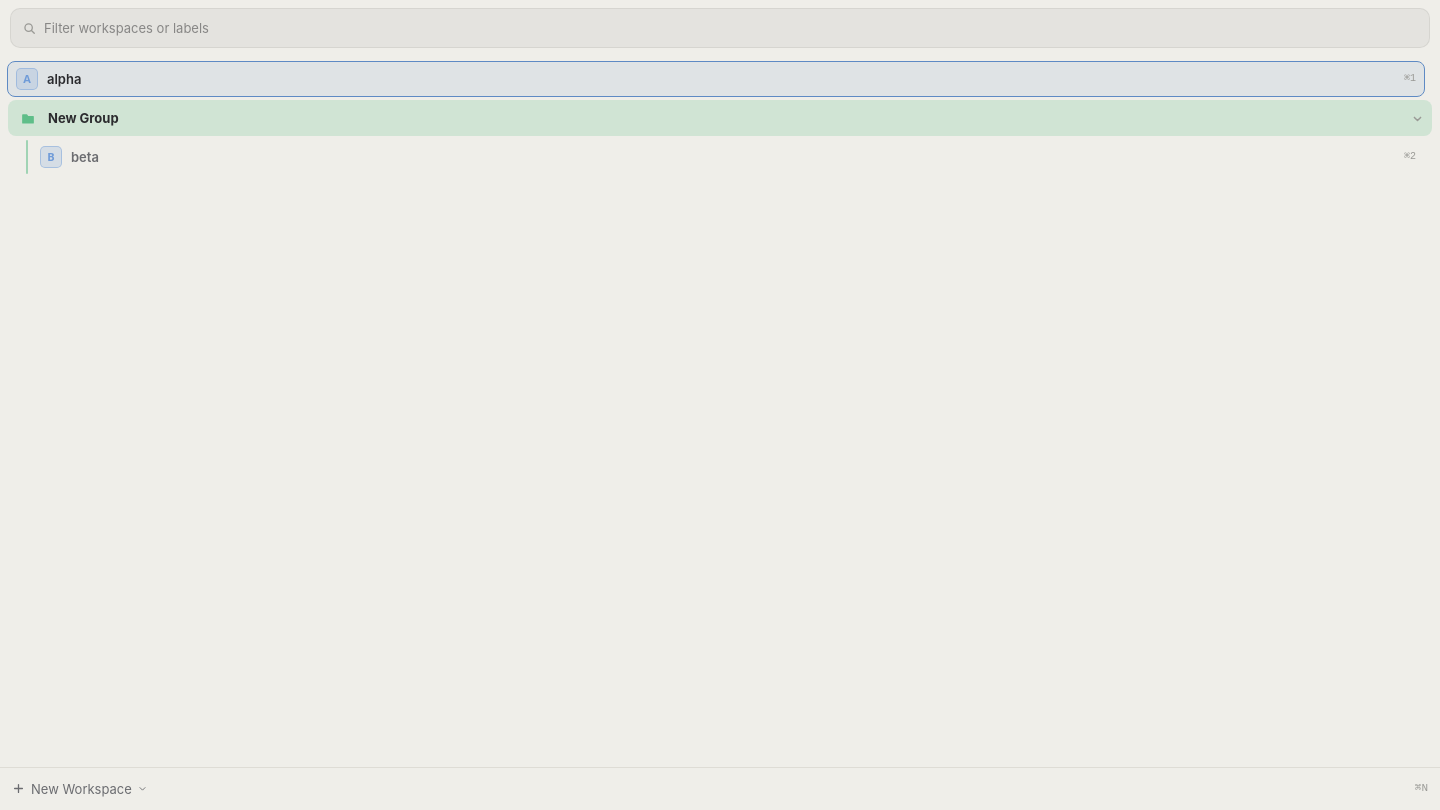
Test: the New Group sheet (§WS-082/§WS-083) › pre-fills a unique default name
What coordinates should you click on to do the following:
click the button with test id "sidebar-new-menu-toggle"
I would click on:
 (142, 789)
Its box is [132,778,153,799].
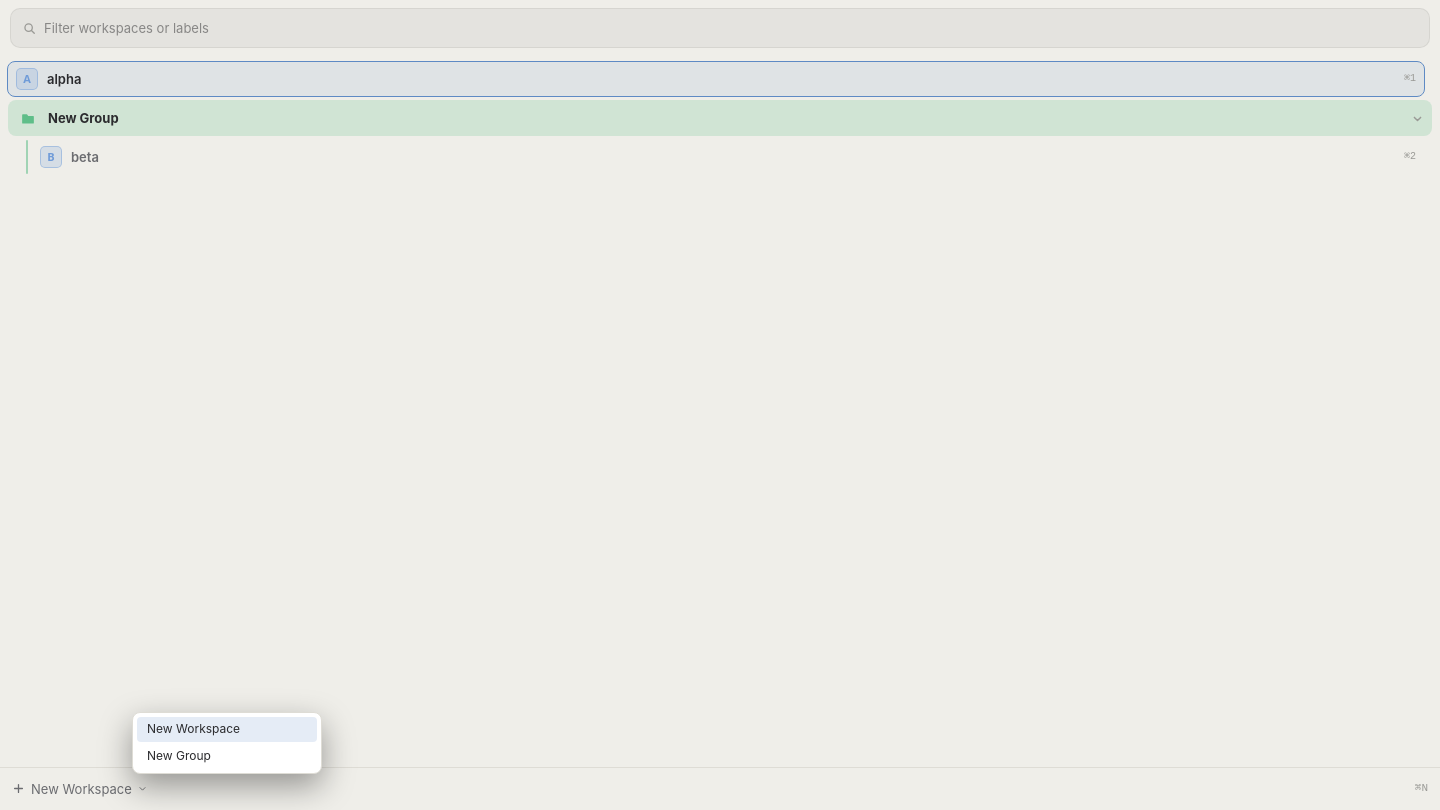
What coordinates should you click on to do the following:
click the menu item "New Group"
I would click on:
 (227, 756)
Its box is [137,744,317,769].
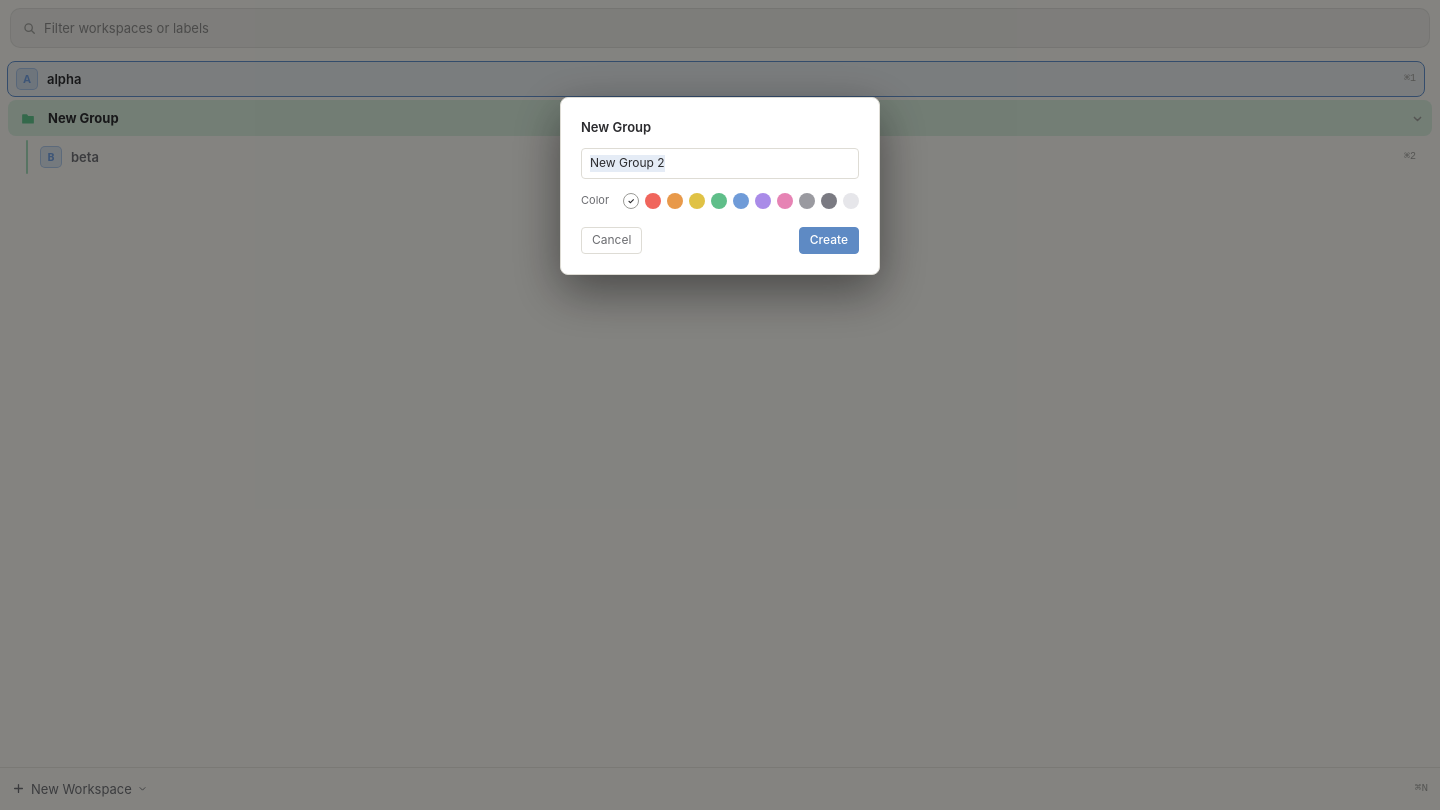
Expected: the field named "New group name" holds "New Group 2", [581,148,859,179]
